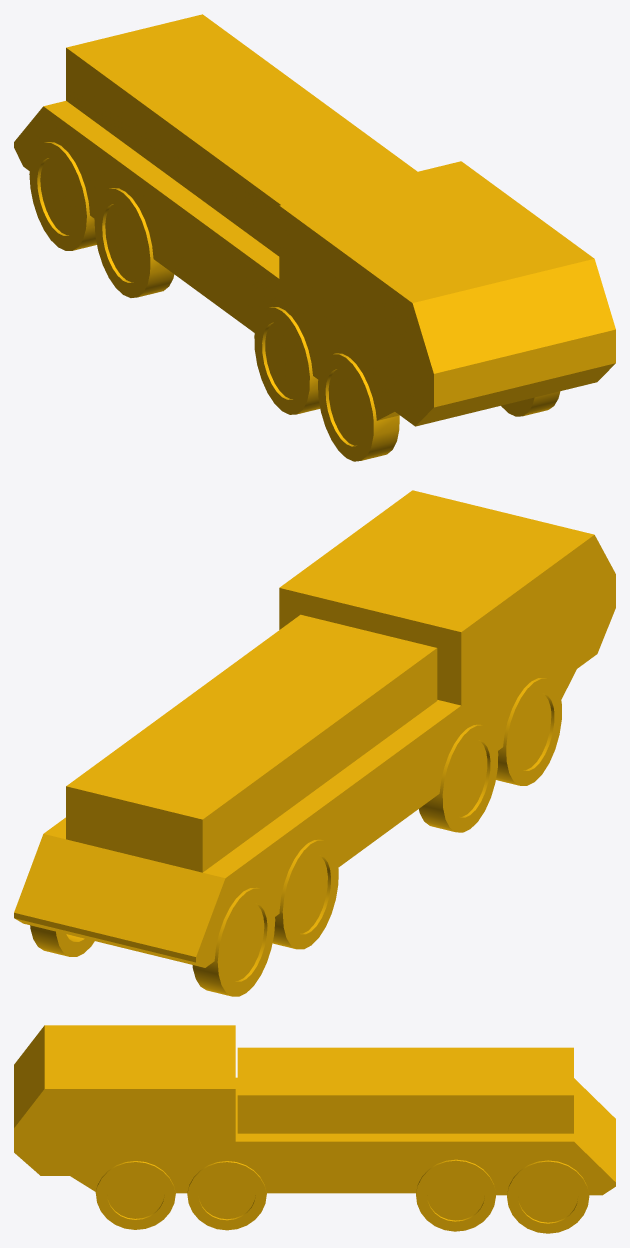
File: Boardgame_Troop_HQ_Token_Yellow_01.fbx
3 views of the same model, one above another, from view 1: azimuth 30°, elevation 25°; view 2: azimuth 150°, elevation 25°; view 3: azimuth 270°, elevation 25° (orthographic). The views are drawn at different scales.
Visible parts, largest first — view 1: Model; view 2: Model; view 3: Model.
Part boxes in pixels (x1=…): Model: x1=14, y1=14, x2=615, y2=461; Model: x1=14, y1=490, x2=615, y2=996; Model: x1=14, y1=1025, x2=615, y2=1233.
Size of the model in its own units: 142 by 144 by 547.
